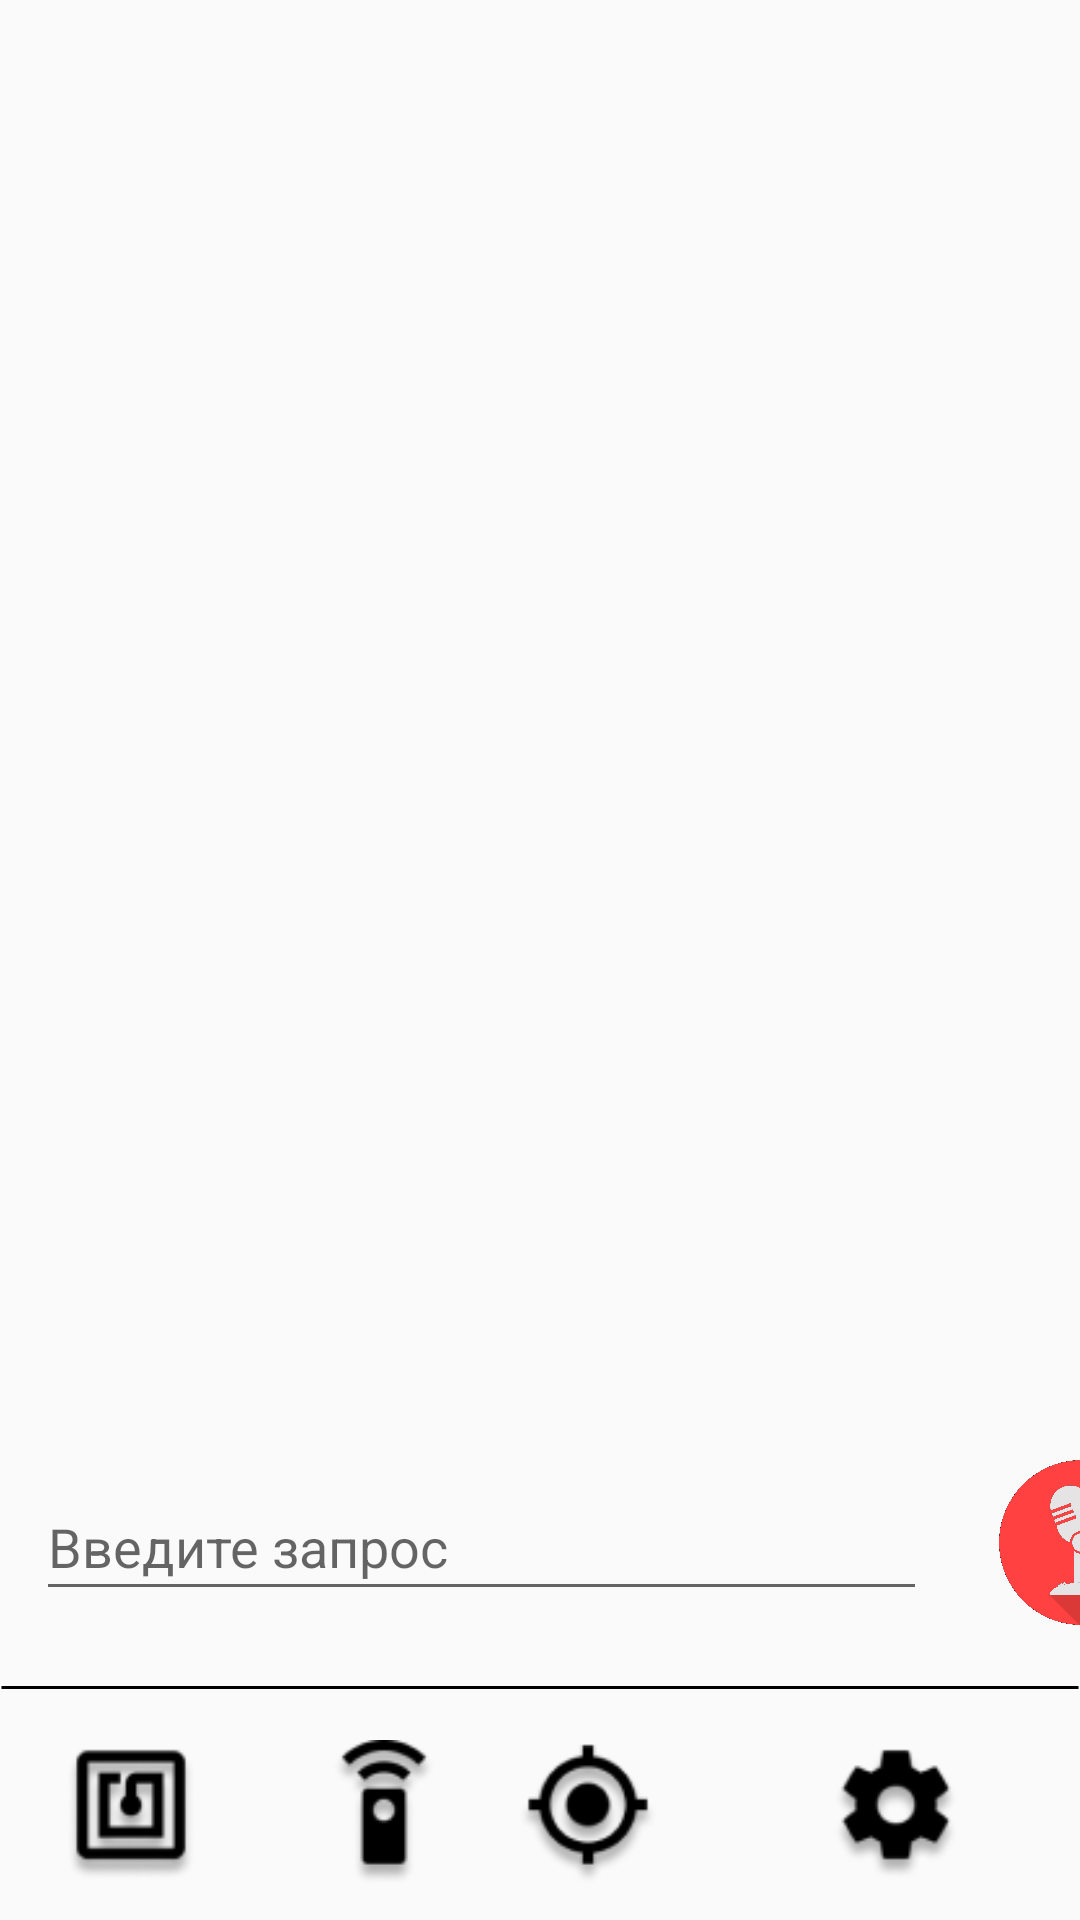

Screen size 1080 × 1920. Icon name, then its box in pixels as (x1, y1, x2, y2):
setting sh: (841, 1749, 950, 1871)
